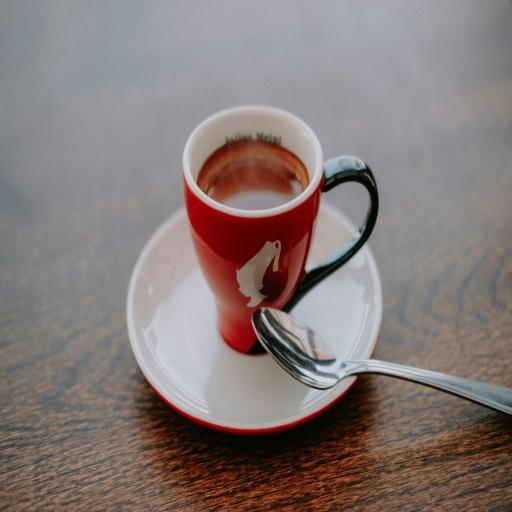cup: (182, 103, 378, 357)
